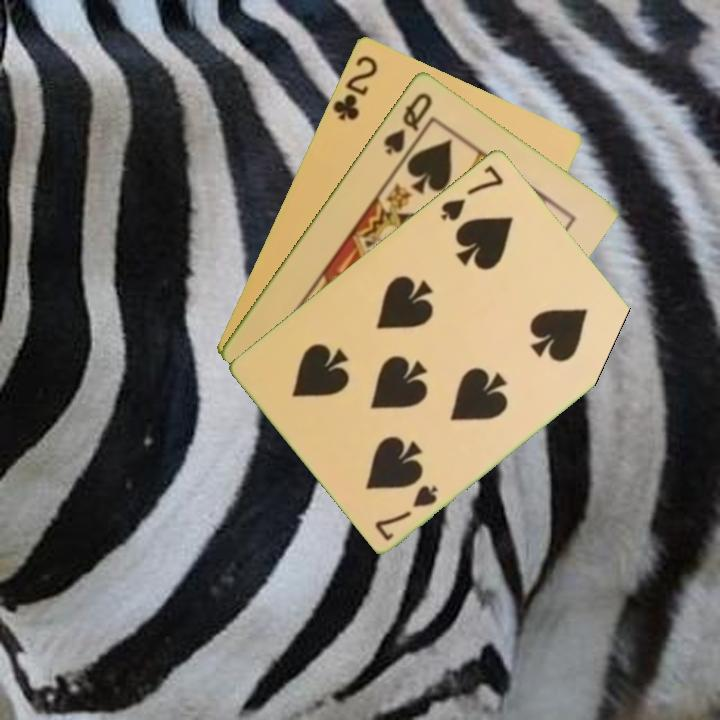2c: (329, 51, 381, 123)
7s: (437, 161, 507, 224), (371, 480, 441, 543)
Qs: (379, 88, 435, 158)
